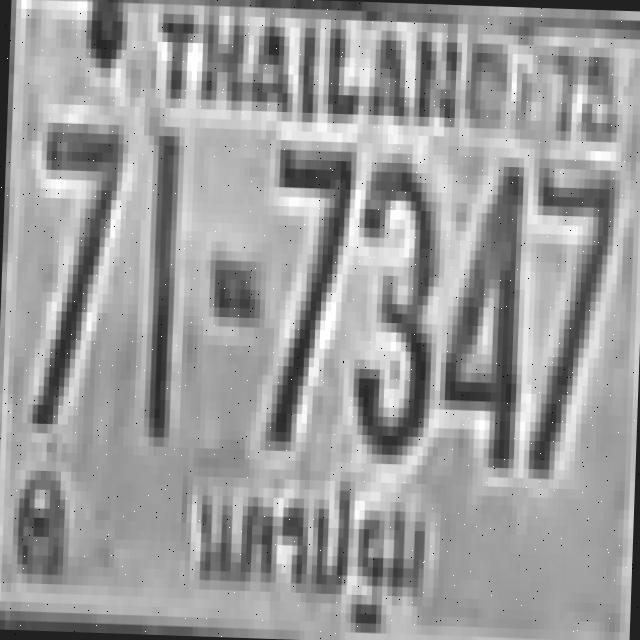1: (141, 121, 177, 432)
3: (346, 152, 438, 446)
4: (435, 155, 521, 458)
7: (29, 112, 121, 426), (524, 158, 616, 471), (266, 140, 352, 443)
NakhonPathom: (183, 458, 438, 630)
